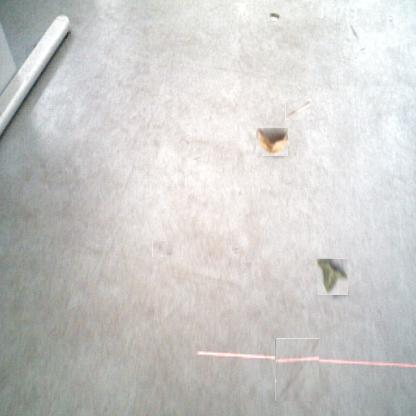dirty: (316, 258, 348, 295), (256, 127, 288, 156), (285, 102, 310, 122), (268, 12, 279, 21)
mark: (275, 338, 319, 401), (152, 241, 173, 257), (349, 24, 358, 39), (181, 135, 189, 147), (243, 261, 252, 271), (154, 138, 162, 148), (359, 47, 366, 53), (233, 246, 239, 253), (194, 155, 201, 161), (388, 16, 393, 22)
